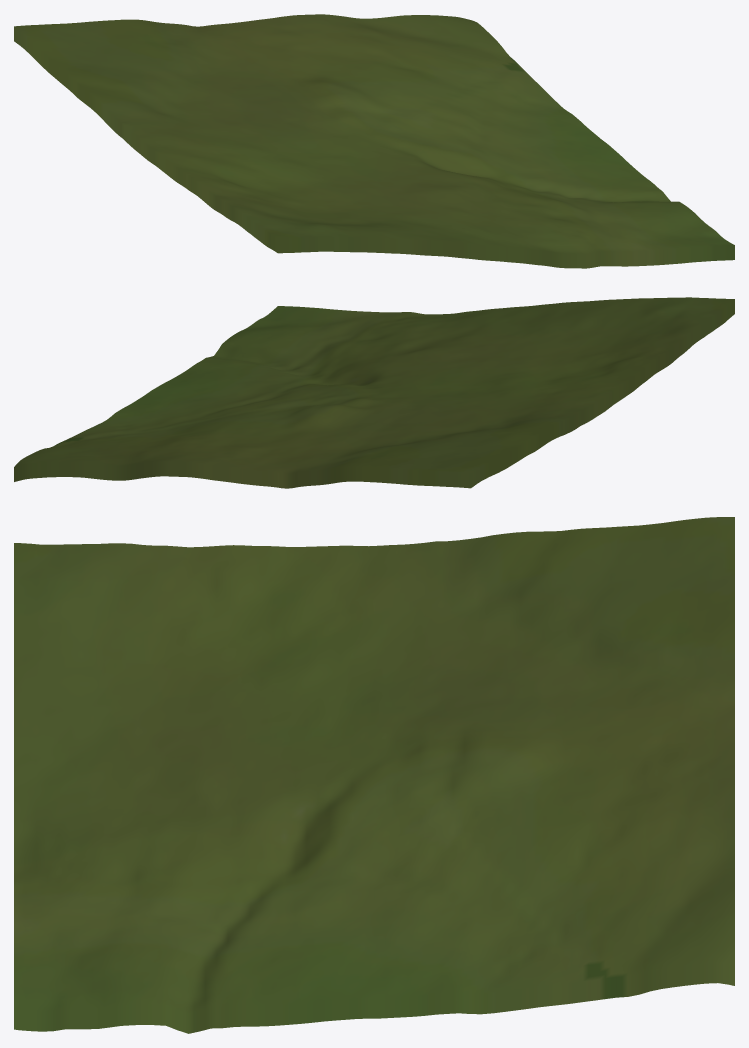
Rendered from terrain_6_-16.glb.
3 views of the same model, one above another, from view 1: azimuth 30°, elevation 25°; view 2: azimuth 150°, elevation 25°; view 3: azimuth 270°, elevation 25° (orthographic). The views are drawn at different scales.
Visible parts, largest first — view 1: terrain_6_-16; view 2: terrain_6_-16; view 3: terrain_6_-16.
Boxes of the visible parts, bbox=[...] form: terrain_6_-16: bbox=[14, 14, 734, 268]; terrain_6_-16: bbox=[14, 297, 734, 488]; terrain_6_-16: bbox=[14, 517, 734, 1033].
Bounding box in the file's own units: 256 × 83.1 × 256.
